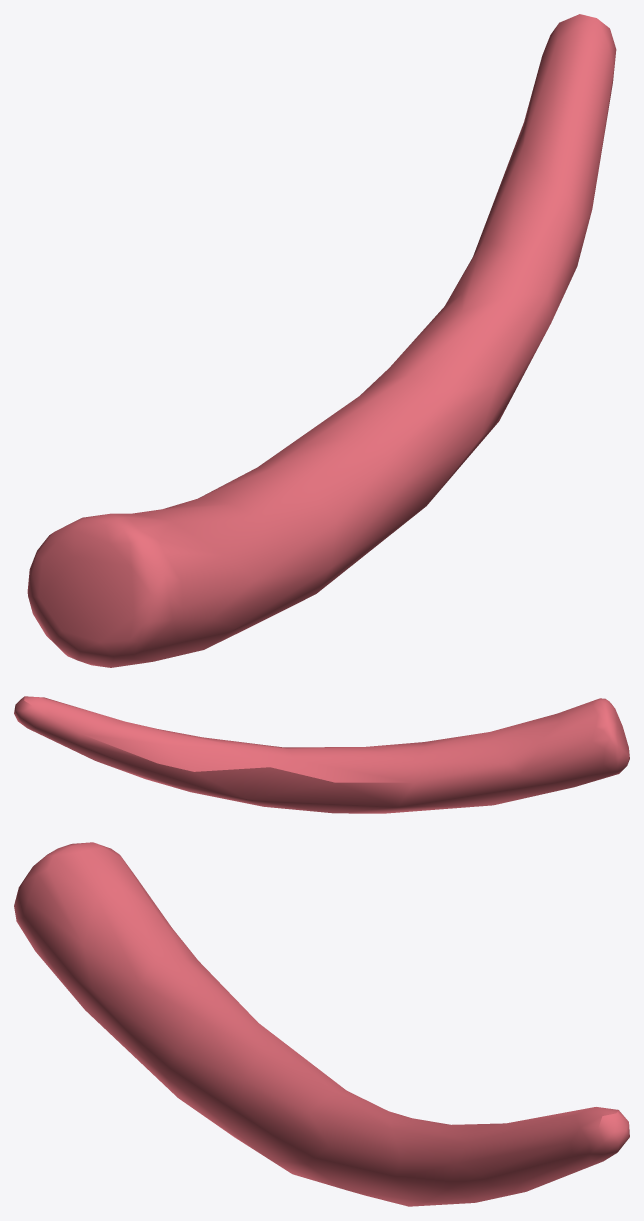
Rendered from fma68133_fj5970.glb.
3 renders of one model, top to bottom at view 1: azimuth 30°, elevation 25°; view 2: azimuth 150°, elevation 25°; view 3: azimuth 270°, elevation 25°, orthographic. The views are drawn at different scales.
Parts seen in each view (by area): view 1: FMA68133_FJ5970; view 2: FMA68133_FJ5970; view 3: FMA68133_FJ5970.
Part boxes in pixels (x1,y1,x2,y2): FMA68133_FJ5970: [27, 14, 616, 667]; FMA68133_FJ5970: [14, 696, 629, 813]; FMA68133_FJ5970: [14, 842, 629, 1206].
Size of the model in its own units: 0.024 by 0.00693 by 0.0181.
